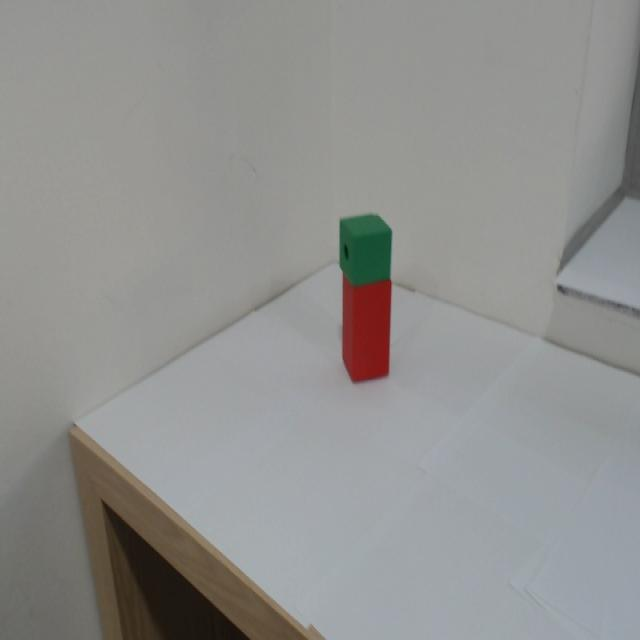cube: (339, 198, 401, 287)
